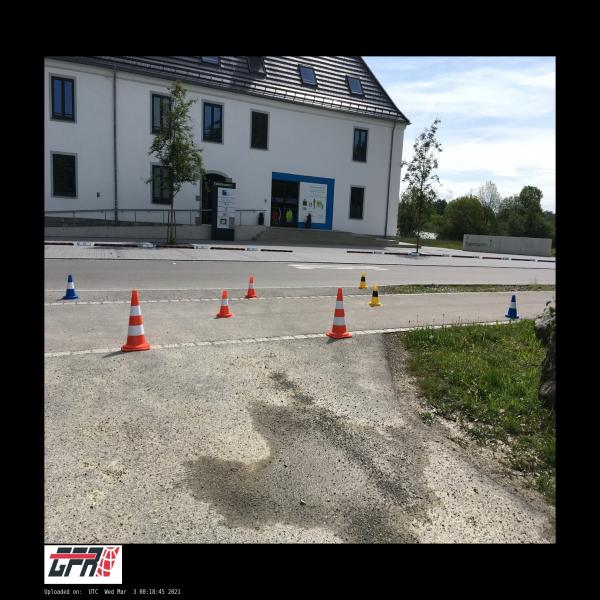blue_cone: (61, 274, 80, 298), (503, 295, 521, 319)
large_orange_cone: (122, 290, 150, 352), (326, 288, 352, 338)
orange_cone: (215, 290, 233, 317), (244, 276, 258, 298)
yellow_cone: (367, 284, 383, 306), (357, 272, 368, 288)
